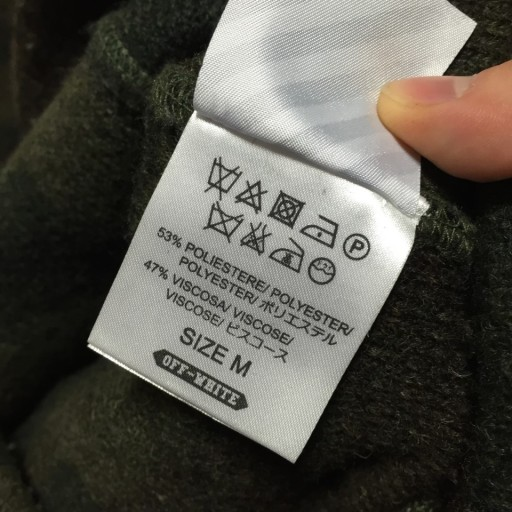ER_dry_clean_chemical: (342, 228, 373, 263)
ER_iron_medium_temp: (303, 213, 338, 248)
ER_no_bleach: (235, 178, 267, 213)
ER_no_tumble_dry: (268, 188, 303, 228)
ER_no_wash: (203, 155, 241, 194)
